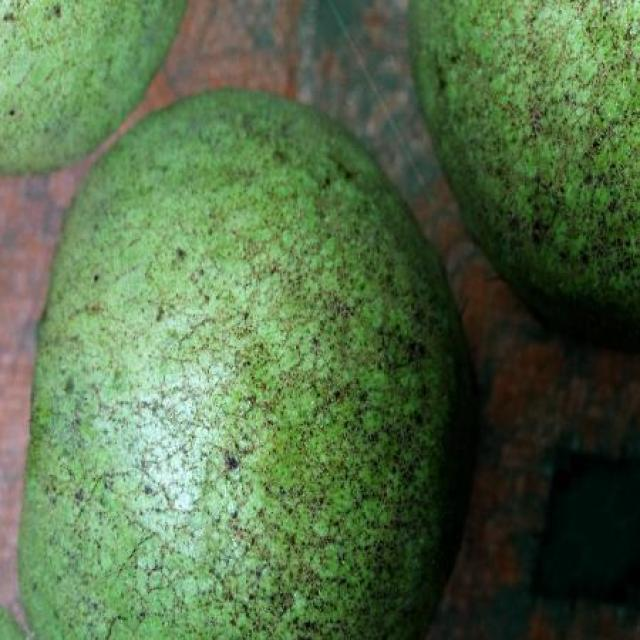Scab: (20, 91, 459, 640), (0, 0, 186, 173)
